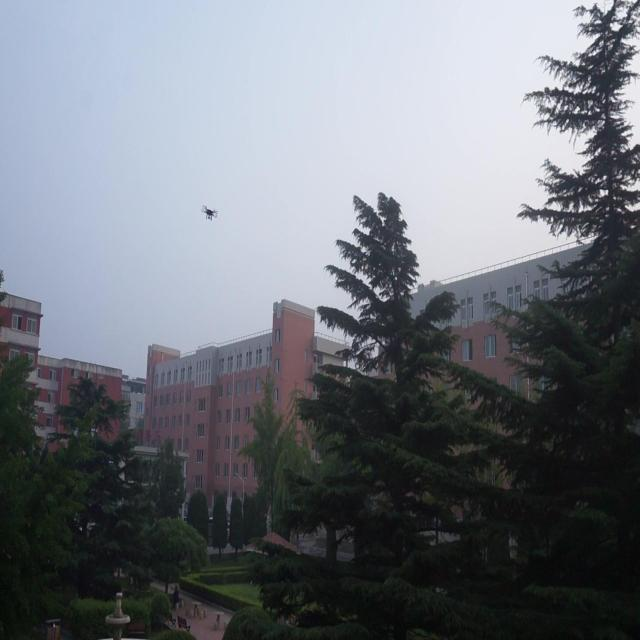drone: (201, 202, 220, 224)
